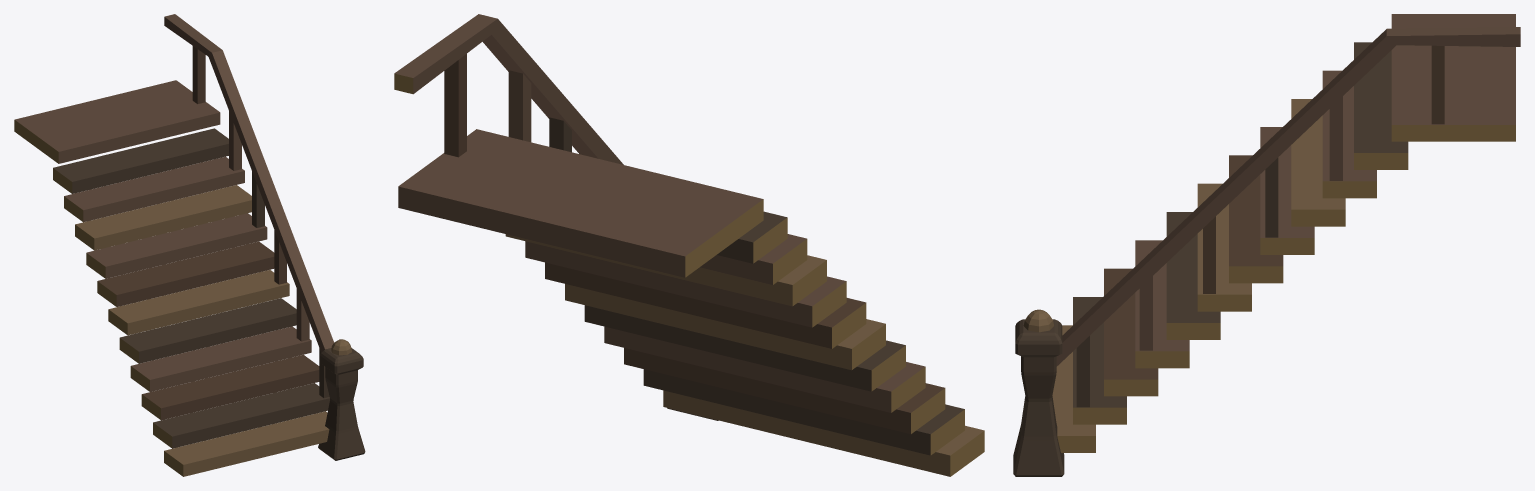
The model's file is Stair_1B_2m.fbx.
The picture shows the model from 3 angles, left to right: view 1: azimuth 30°, elevation 25°; view 2: azimuth 150°, elevation 25°; view 3: azimuth 270°, elevation 25°; orthographic projection. The views are drawn at different scales.
Parts seen in each view (by area): view 1: polySurface2788; view 2: polySurface2788; view 3: polySurface2788.
Part boxes in pixels (x1,y1,x2,y2): polySurface2788: (14,14,365,476); polySurface2788: (394,14,984,476); polySurface2788: (1013,14,1520,476).
Size of the model in its own units: 180 by 308 by 325.
